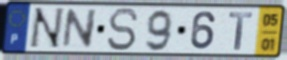6: (190, 10, 218, 52)
9: (145, 8, 174, 53)
N: (26, 6, 67, 50), (60, 8, 99, 50)
S: (105, 7, 141, 53)
T: (227, 11, 254, 52)
